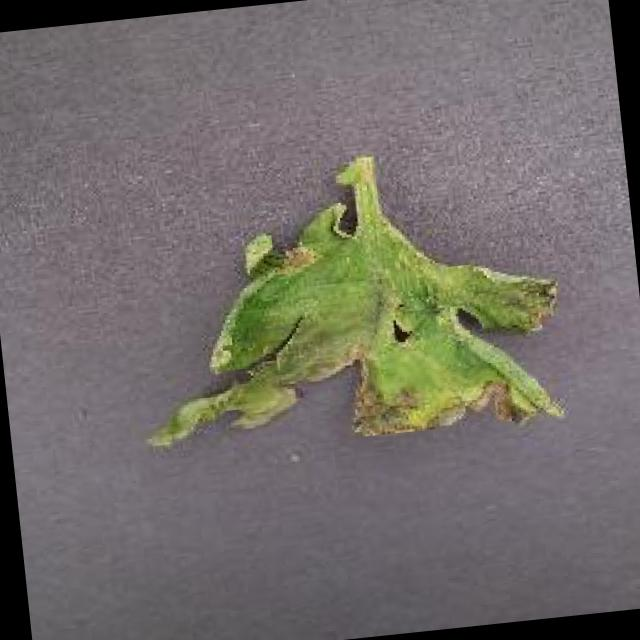Tomato_Late_Blight: (128, 238, 580, 480)
